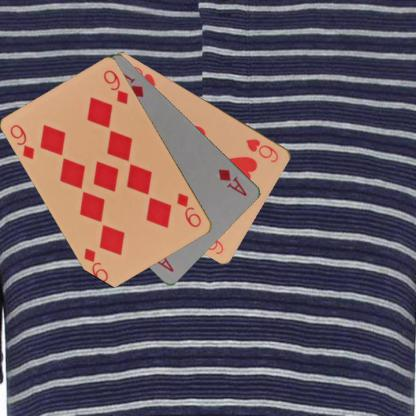6h: (244, 136, 280, 164)
9d: (7, 122, 37, 161), (174, 190, 203, 229)
Ad: (216, 166, 249, 198)
